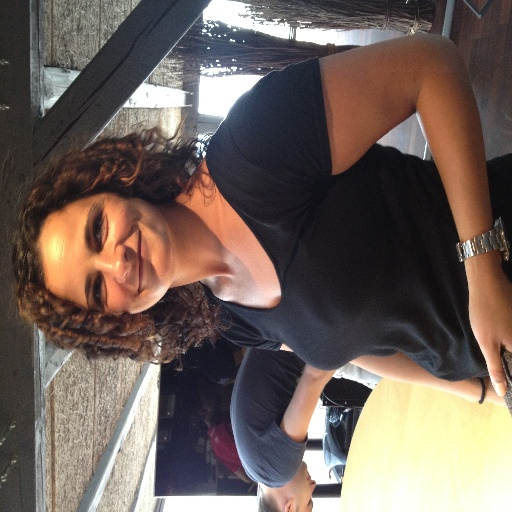hand: (460, 180, 508, 391), (483, 378, 506, 407)
